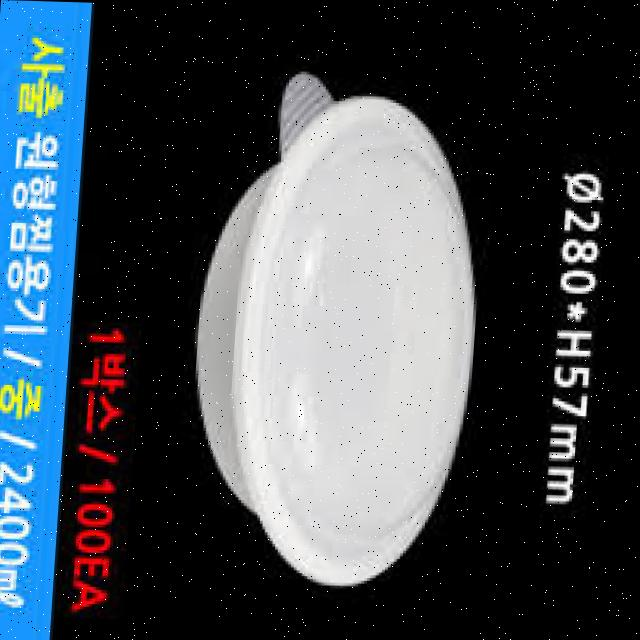disposable: (170, 54, 516, 613)
